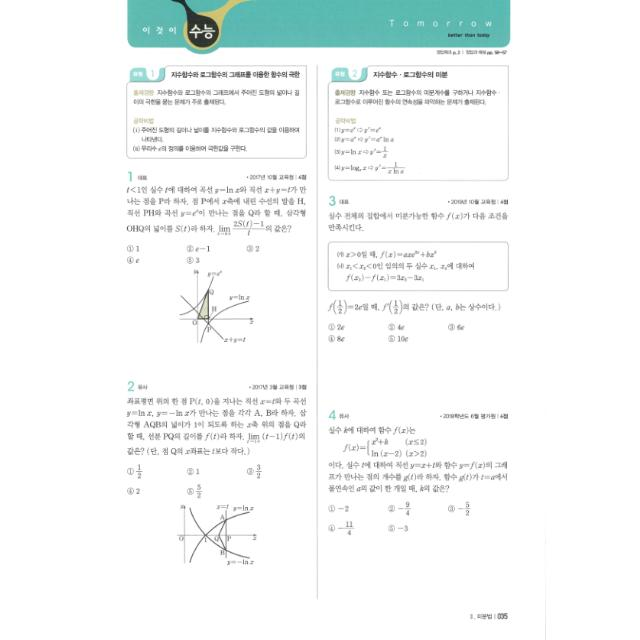multiple: (114, 370, 310, 576), (115, 162, 311, 354), (322, 187, 520, 357), (320, 403, 518, 549)
